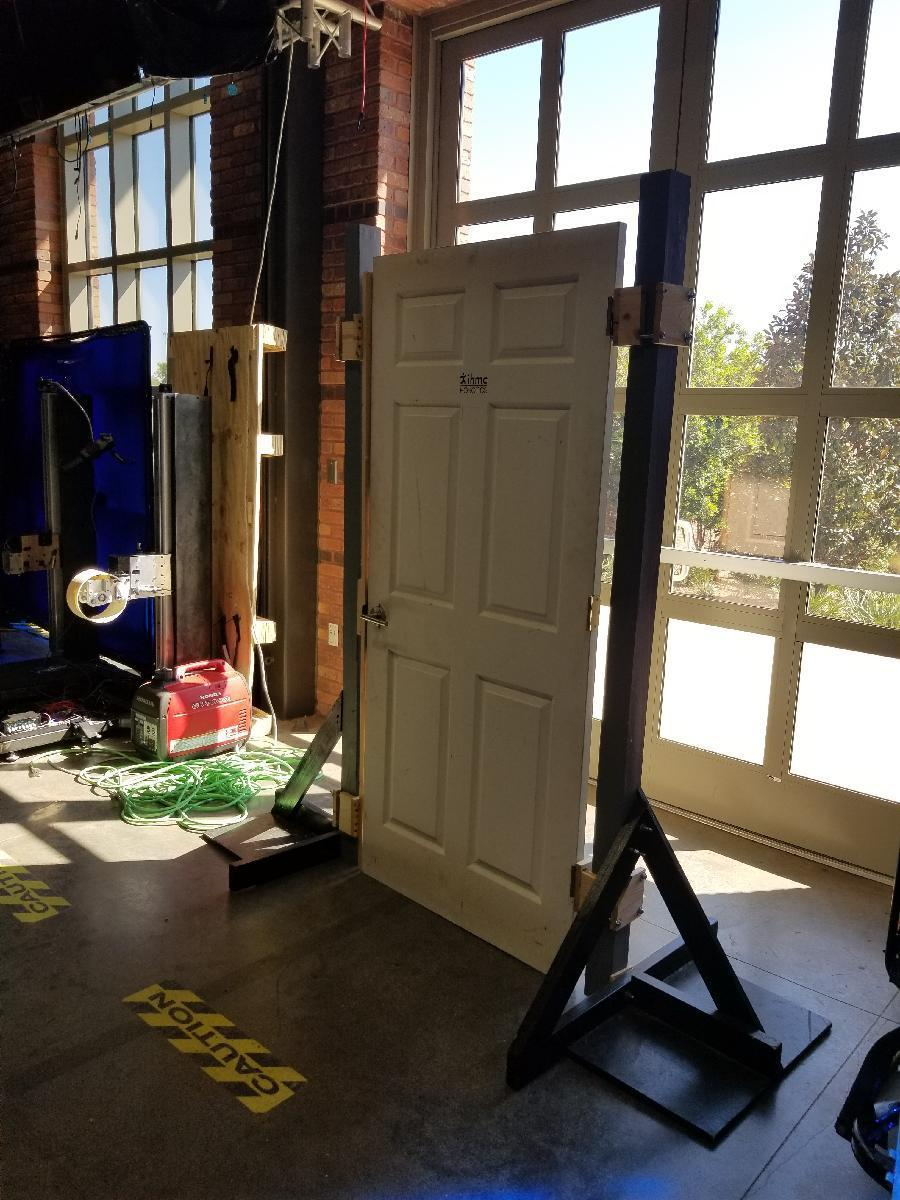door: (366, 248, 603, 941)
handle: (360, 604, 390, 634)
